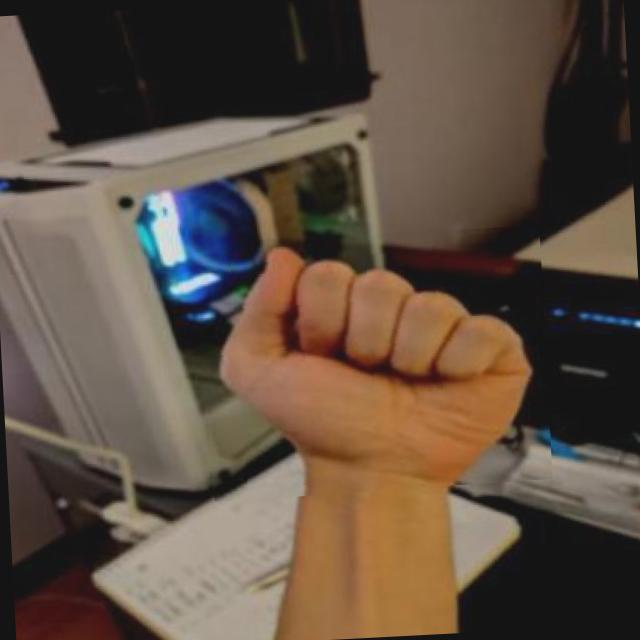A: (195, 225, 553, 502)
